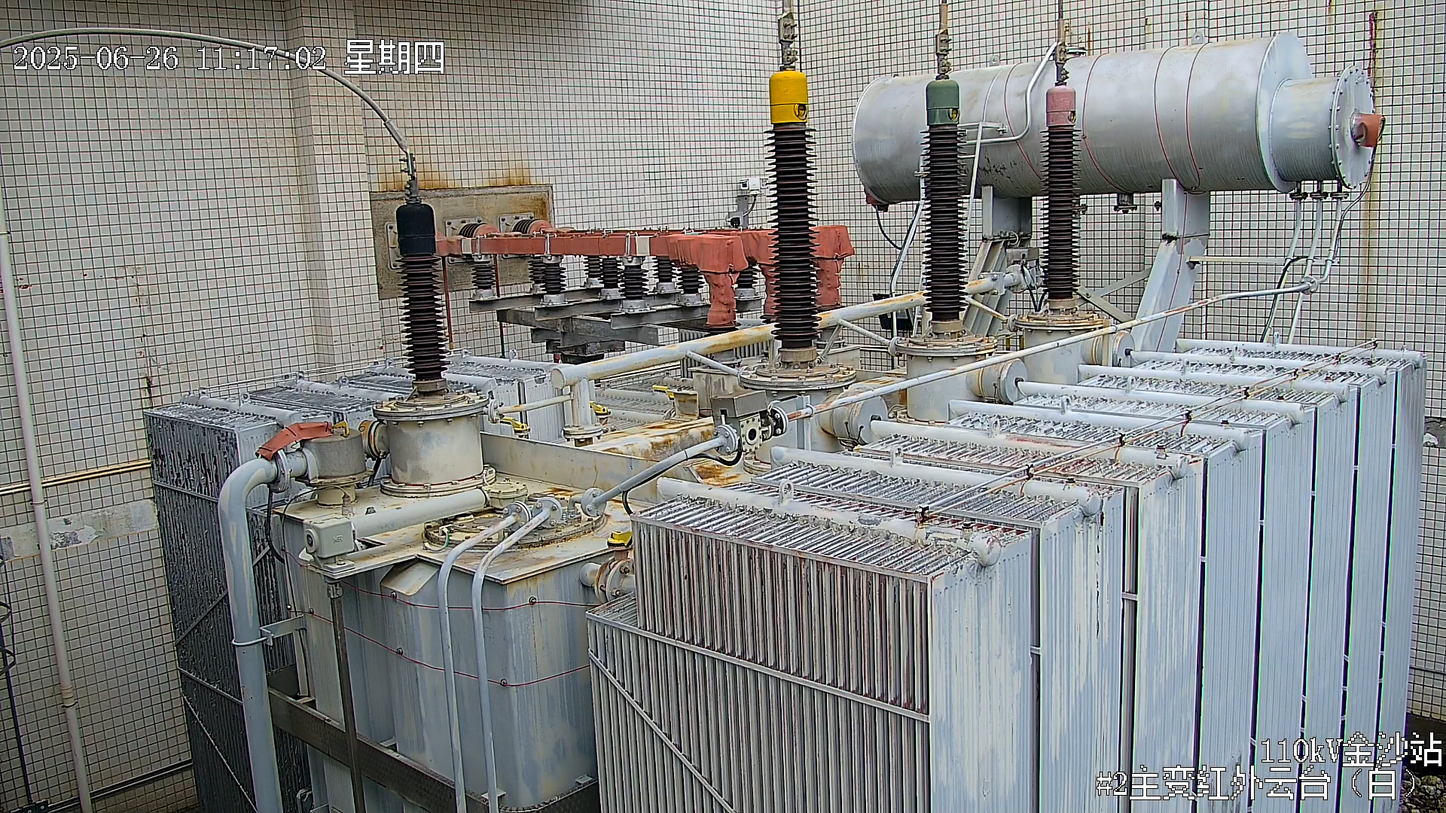MainTR: (138, 26, 1430, 813)
